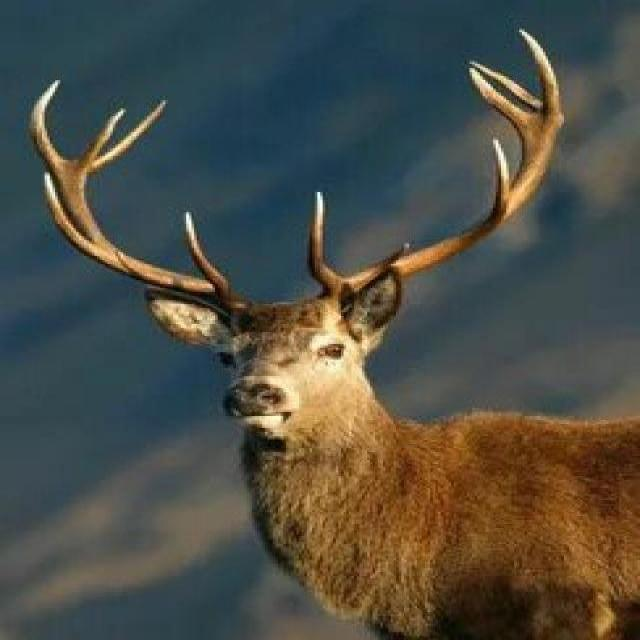deer: (41, 96, 640, 640)
